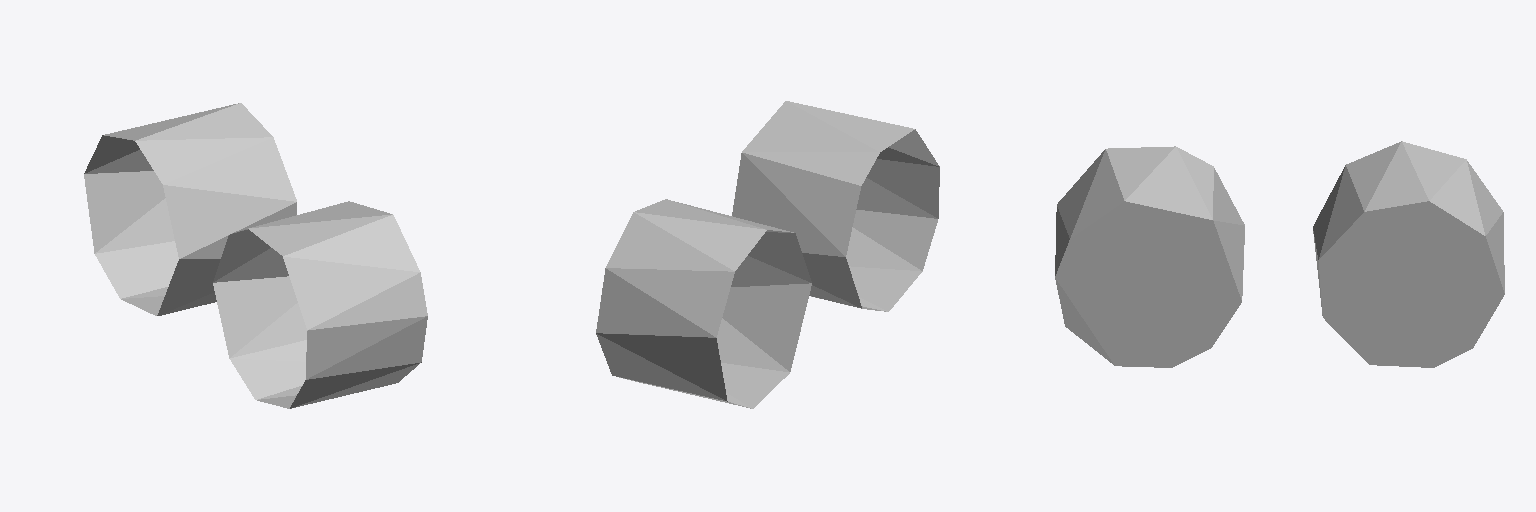
The model's file is srf05.obj.
3 views of the same model, side by side, from view 1: azimuth 30°, elevation 25°; view 2: azimuth 150°, elevation 25°; view 3: azimuth 270°, elevation 25° (orthographic).
Visible parts, largest first — view 1: srf05; view 2: srf05; view 3: srf05.
Boxes of the visible parts, <box> form: srf05: <box>84,103,427,408</box>; srf05: <box>596,101,939,408</box>; srf05: <box>1055,141,1504,367</box>.
Size of the model in its own units: 0.0123 by 0.0165 by 0.0393.